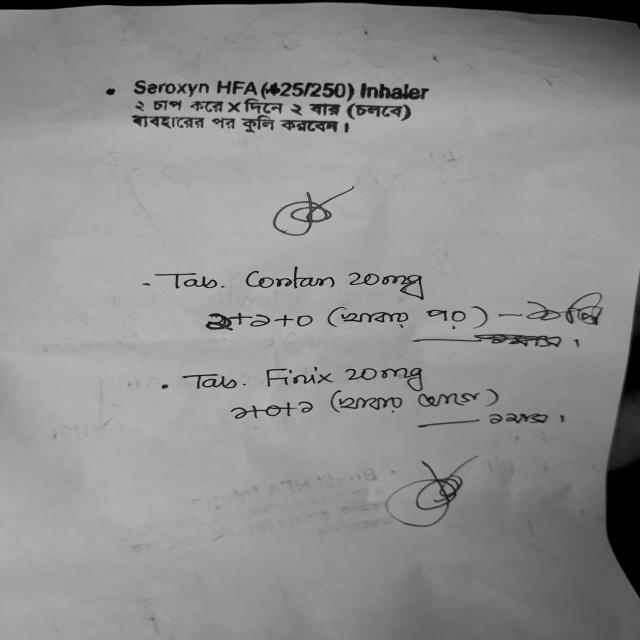Cortan: (236, 265, 344, 295)
Finix: (256, 363, 342, 388)
